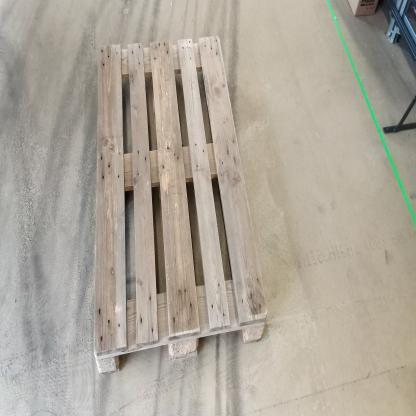BoxFace: (89, 26, 275, 388)
